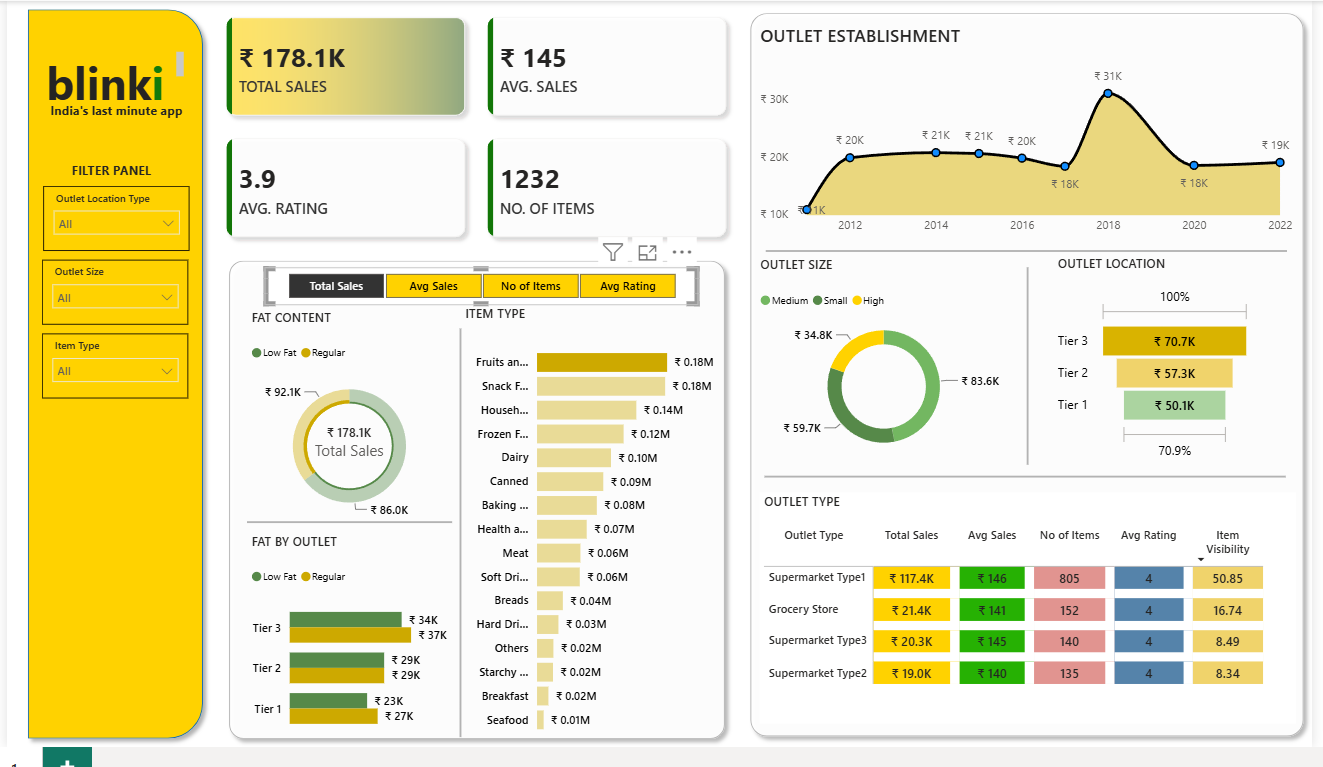

Layout of this report page (visuals, bound fields, positions):
{"tool":"powerbi","page":{"name":"Page 1","canvas":[1400,800],"ordinal":0},"visuals":[{"type":"shape","box":[12.9,0,205.7,800],"z":0},{"type":"textbox","box":[38,50,157,68],"z":1000},{"type":"textbox","box":[42.1,102.9,155.7,30],"z":2000},{"type":"cardVisual","fields":{"Data":["BlinkIT Grocery Data.Total Sales","BlinkIT Grocery Data.Avg Sales","BlinkIT Grocery Data.Avg Rating","BlinkIT Grocery Data.No of Items"]},"box":[218.6,0,570,270],"z":3000},{"type":"shape","box":[229.2,269.4,549.6,530.8],"z":4000},{"type":"donutChart","title":"FAT CONTENT","fields":{"Y":["BlinkIT Grocery Data.Total Sales"],"Category":["BlinkIT Grocery Data.Item Fat Content"]},"box":[257.1,330,220,240],"z":5000},{"type":"slicer","fields":{"Values":["Metrics.Metrics"]},"box":[275.7,285.7,465,40],"z":6000},{"type":"cardVisual","fields":{"Data":["BlinkIT Grocery Data.Total Sales"]},"box":[298.3,447.5,137.5,71.7],"z":7000},{"type":"clusteredBarChart","title":"FAT BY OUTLET","fields":{"Y":["BlinkIT Grocery Data.Total Sales"],"Category":["BlinkIT Grocery Data.Outlet Location Type"],"Series":["BlinkIT Grocery Data.Item Fat Content"]},"box":[256.9,570,220,230],"z":8000},{"type":"shape","box":[257.1,542.9,220,31.9],"z":9000},{"type":"shape","box":[477.3,350.9,18.2,438.2],"z":10000},{"type":"barChart","title":"ITEM TYPE","fields":{"Y":["BlinkIT Grocery Data.Total Sales"],"Category":["BlinkIT Grocery Data.Item Type"]},"box":[486.4,325.7,277.1,470.7],"z":11000},{"type":"shape","box":[788.8,3.8,611.2,793.8],"z":11001},{"type":"lineChart","title":"OUTLET ESTABLISHMENT","fields":{"Y":["BlinkIT Grocery Data.Total Sales"],"Category":["BlinkIT Grocery Data.Outlet Establishment Year"]},"box":[803,24.1,580.4,234.6],"z":11002},{"type":"shape","box":[813.7,253.4,559,29.5],"z":11003},{"type":"donutChart","title":"OUTLET SIZE","fields":{"Category":["BlinkIT Grocery Data.Outlet Size"],"Y":["BlinkIT Grocery Data.Total Sales"]},"box":[803,273.5,274.8,225.2],"z":11004},{"type":"shape","box":[1085.8,285.5,17.4,211.8],"z":11005},{"type":"funnel","title":"OUTLET LOCATION","fields":{"Category":["BlinkIT Grocery Data.Outlet Location Type"],"Y":["BlinkIT Grocery Data.Total Sales"]},"box":[1122,272.1,217.2,225.2],"z":11006},{"type":"shape","box":[812.3,494.6,559,30.8],"z":11007},{"type":"pivotTable","title":"OUTLET TYPE","fields":{"Values":["BlinkIT Grocery Data.Total Sales","BlinkIT Grocery Data.Avg Sales","BlinkIT Grocery Data.No of Items","BlinkIT Grocery Data.Avg Rating","Sum(BlinkIT Grocery Data.Item Visibility)"],"Rows":["BlinkIT Grocery Data.Outlet Type"]},"box":[807,526.8,575.1,248],"z":11008},{"type":"slicer","fields":{"Values":["BlinkIT Grocery Data.Outlet Location Type"]},"box":[38.9,198.4,156.8,69.7],"z":11009},{"type":"slicer","fields":{"Values":["BlinkIT Grocery Data.Outlet Size"]},"box":[37.5,277.5,156.8,69.7],"z":11010},{"type":"slicer","fields":{"Values":["BlinkIT Grocery Data.Item Type"]},"box":[37.5,356.6,156.8,69.7],"z":11011},{"type":"textbox","box":[64,168,105,30],"z":11012}]}

Visuals, with their boxes in screenshot pixels (x1, y1, x2, y2), scaled from the page's 1400x800 canvas onto the 1323x767 screenshot:
shape: {"x1": 12, "y1": 0, "x2": 207, "y2": 766}
textbox: {"x1": 36, "y1": 48, "x2": 184, "y2": 113}
textbox: {"x1": 40, "y1": 99, "x2": 187, "y2": 127}
cardVisual - BlinkIT Grocery Data.Total Sales x BlinkIT Grocery Data.Avg Sales: {"x1": 207, "y1": 0, "x2": 745, "y2": 259}
shape: {"x1": 217, "y1": 258, "x2": 736, "y2": 766}
"FAT CONTENT" donutChart: {"x1": 243, "y1": 316, "x2": 451, "y2": 546}
slicer - Metrics.Metrics: {"x1": 261, "y1": 274, "x2": 700, "y2": 312}
cardVisual - BlinkIT Grocery Data.Total Sales: {"x1": 282, "y1": 429, "x2": 412, "y2": 498}
"FAT BY OUTLET" clusteredBarChart: {"x1": 243, "y1": 546, "x2": 451, "y2": 766}
shape: {"x1": 243, "y1": 521, "x2": 451, "y2": 551}
shape: {"x1": 451, "y1": 336, "x2": 468, "y2": 757}
"ITEM TYPE" barChart: {"x1": 460, "y1": 312, "x2": 722, "y2": 764}
shape: {"x1": 745, "y1": 4, "x2": 1322, "y2": 765}
"OUTLET ESTABLISHMENT" lineChart: {"x1": 759, "y1": 23, "x2": 1307, "y2": 248}
shape: {"x1": 769, "y1": 243, "x2": 1297, "y2": 271}
"OUTLET SIZE" donutChart: {"x1": 759, "y1": 262, "x2": 1019, "y2": 478}
shape: {"x1": 1026, "y1": 274, "x2": 1043, "y2": 477}
"OUTLET LOCATION" funnel: {"x1": 1060, "y1": 261, "x2": 1266, "y2": 477}
shape: {"x1": 768, "y1": 474, "x2": 1296, "y2": 504}
"OUTLET TYPE" pivotTable: {"x1": 763, "y1": 505, "x2": 1306, "y2": 743}
slicer - BlinkIT Grocery Data.Outlet Location Type: {"x1": 37, "y1": 190, "x2": 185, "y2": 257}
slicer - BlinkIT Grocery Data.Outlet Size: {"x1": 35, "y1": 266, "x2": 184, "y2": 333}
slicer - BlinkIT Grocery Data.Item Type: {"x1": 35, "y1": 342, "x2": 184, "y2": 409}
textbox: {"x1": 60, "y1": 161, "x2": 160, "y2": 190}
